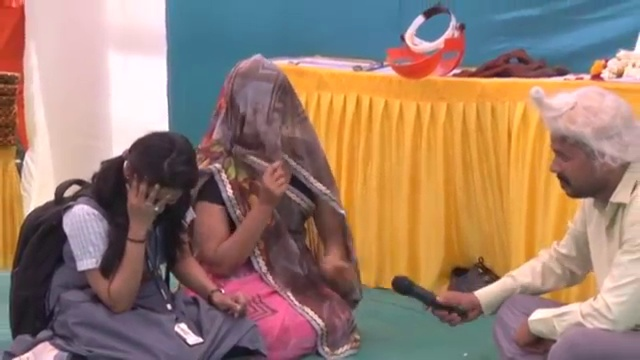helmet_off: (541, 88, 639, 212), (213, 54, 313, 150), (119, 136, 194, 207)
person: (1, 127, 259, 360), (429, 86, 640, 358), (190, 42, 350, 354)
